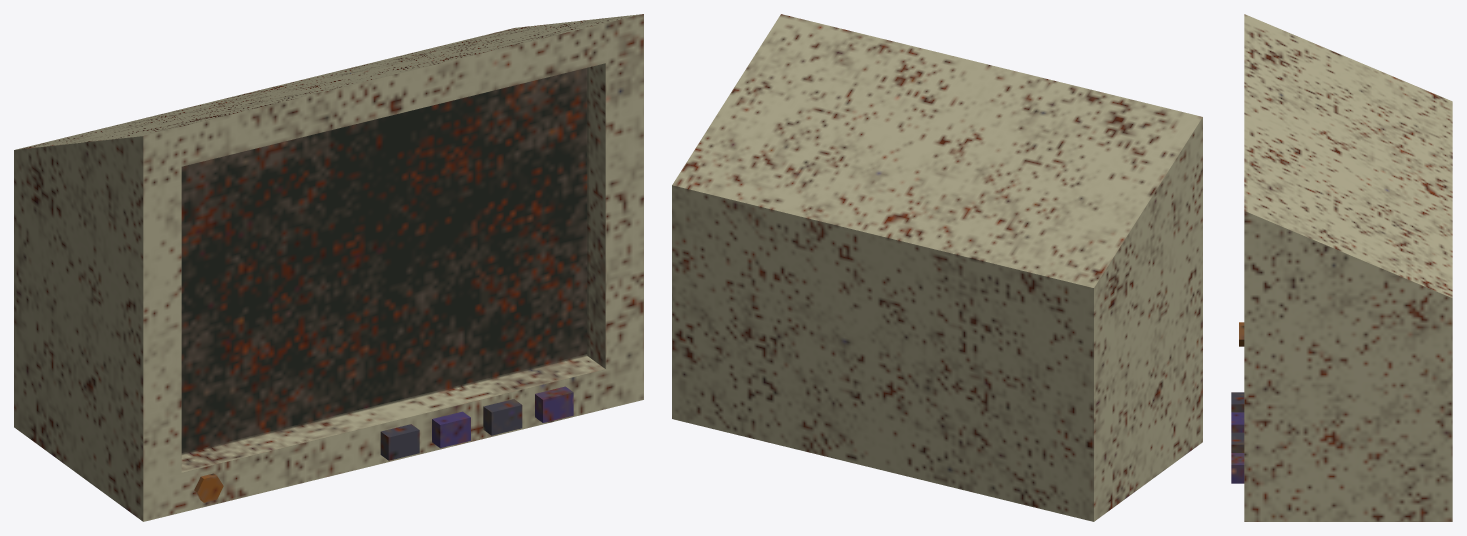
File: cardiac_monitor_off.fbx
The picture shows the model from 3 angles, left to right: view 1: azimuth 30°, elevation 25°; view 2: azimuth 150°, elevation 25°; view 3: azimuth 270°, elevation 25°; orthographic projection. The views are drawn at different scales.
Parts seen in each view (by area): view 1: cardiac_monitor_off; view 2: cardiac_monitor_off; view 3: cardiac_monitor_off.
Boxes of the visible parts, x1,y1,x2,y2 form: cardiac_monitor_off: [14, 14, 643, 521]; cardiac_monitor_off: [672, 14, 1202, 521]; cardiac_monitor_off: [1231, 14, 1452, 521].
Size of the model in its own units: 38 by 28 by 18.08.
1 material, 1 textured.
